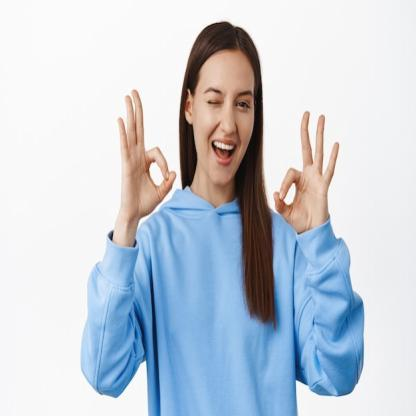ok: (112, 82, 176, 218), (272, 107, 340, 232)
